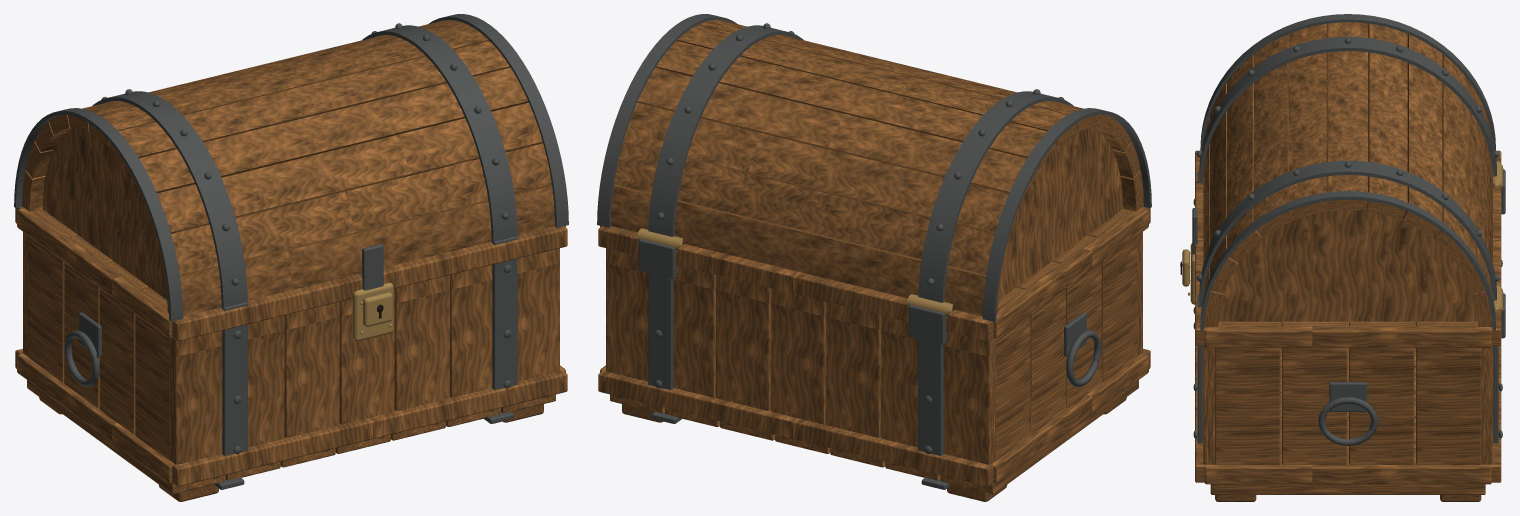
File: treasure_chest.glb
3 renders of one model, left to right at view 1: azimuth 30°, elevation 25°; view 2: azimuth 150°, elevation 25°; view 3: azimuth 270°, elevation 25°, orthographic. The views are drawn at different scales.
Parts seen in each view (by area): view 1: ChestLid, ChestBase; view 2: ChestLid, ChestBase; view 3: ChestLid, ChestBase.
Part boxes in pixels (left/top/right/bottom): ChestLid: left=14, top=14, right=568, bottom=321; ChestBase: left=15, top=160, right=567, bottom=501; ChestLid: left=597, top=14, right=1151, bottom=321; ChestBase: left=598, top=160, right=1150, bottom=501; ChestLid: left=1192, top=14, right=1499, bottom=330; ChestBase: left=1180, top=150, right=1505, bottom=501.
Bounding box in the file's own units: 0.772 × 0.589 × 0.5435.
Materials: 4 (1 with a texture image).
